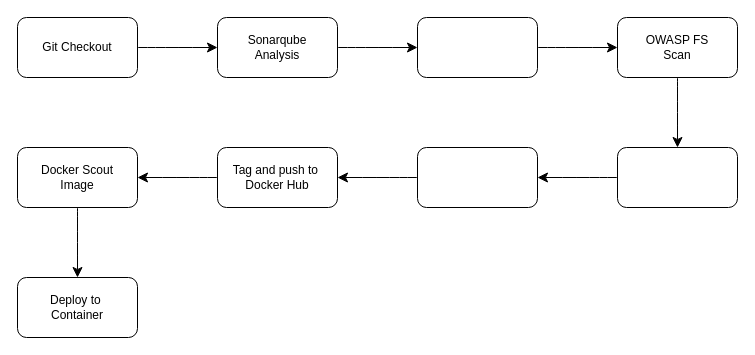
Some shapes in this 755 by 355 pixel diagram are drawn without their labels. The centre of each missing label's shape, as x and y in pixels:
Build Docker Image: the point at 477,177
Quality Gate: the point at 477,47
Trivy File Scan: the point at 677,177
